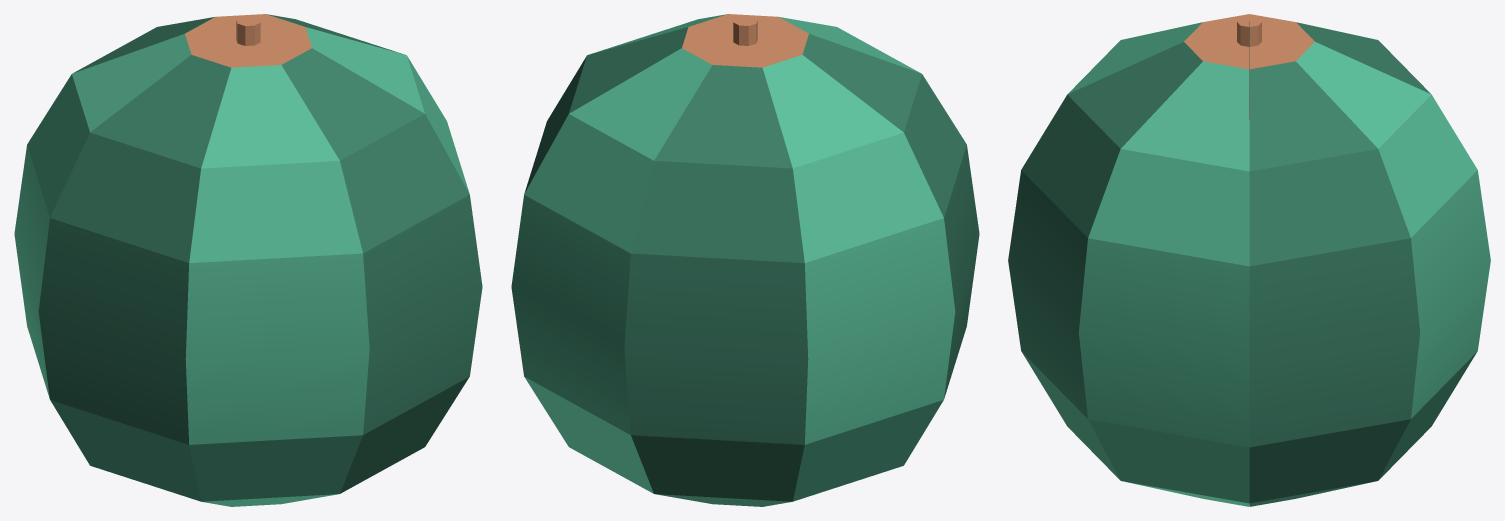
Rendered from watermelon.obj.
The picture shows the model from 3 angles, left to right: view 1: azimuth 30°, elevation 25°; view 2: azimuth 150°, elevation 25°; view 3: azimuth 270°, elevation 25°; orthographic projection.
Parts seen in each view (by area): view 1: slice; view 2: slice; view 3: slice.
Boxes of the visible parts, x1,y1,x2,y2 form: slice: [14, 14, 482, 506]; slice: [511, 14, 979, 506]; slice: [1008, 14, 1490, 506].
Bounding box in the file's own units: 0.4554 × 0.4761 × 0.4554.
